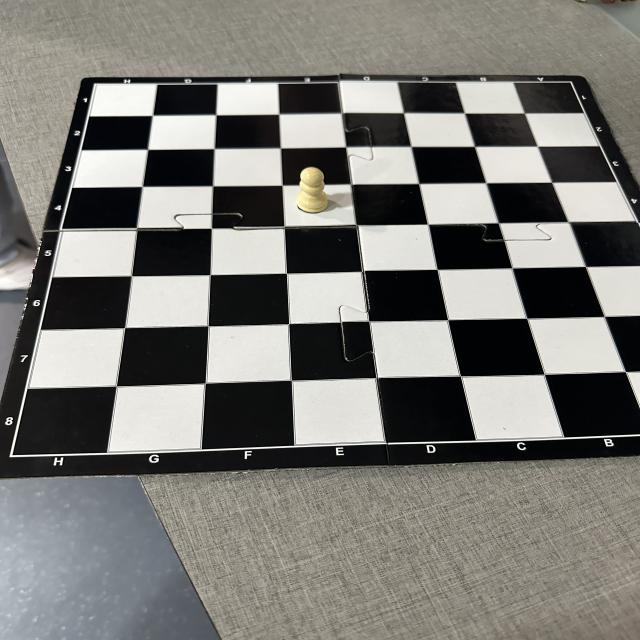White-Pawn: (296, 166, 330, 214)
